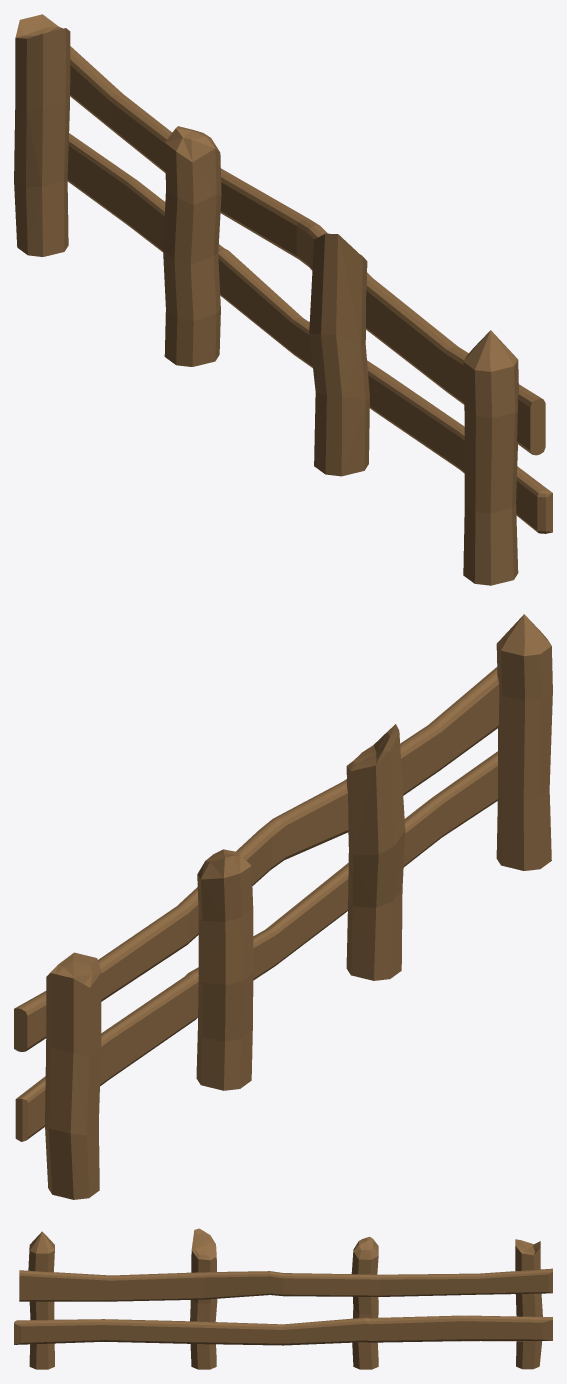
File: plot.fbx
The picture shows the model from 3 angles, top to bottom: view 1: azimuth 30°, elevation 25°; view 2: azimuth 150°, elevation 25°; view 3: azimuth 270°, elevation 25°; orthographic projection. The views are drawn at different scales.
Visible parts, largest first — view 1: Cube.005; view 2: Cube.005; view 3: Cube.005.
Boxes of the visible parts, x1,y1,x2,y2 form: Cube.005: [14, 14, 552, 585]; Cube.005: [14, 614, 552, 1199]; Cube.005: [14, 1228, 552, 1369].
Bounding box in the file's own units: 285 × 959 × 3535.
